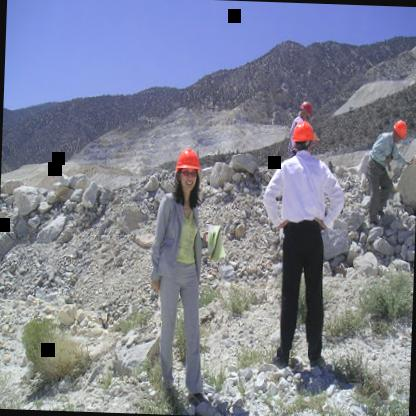helmet: (174, 150, 202, 194), (291, 122, 316, 154), (392, 118, 408, 142), (300, 101, 312, 123)
